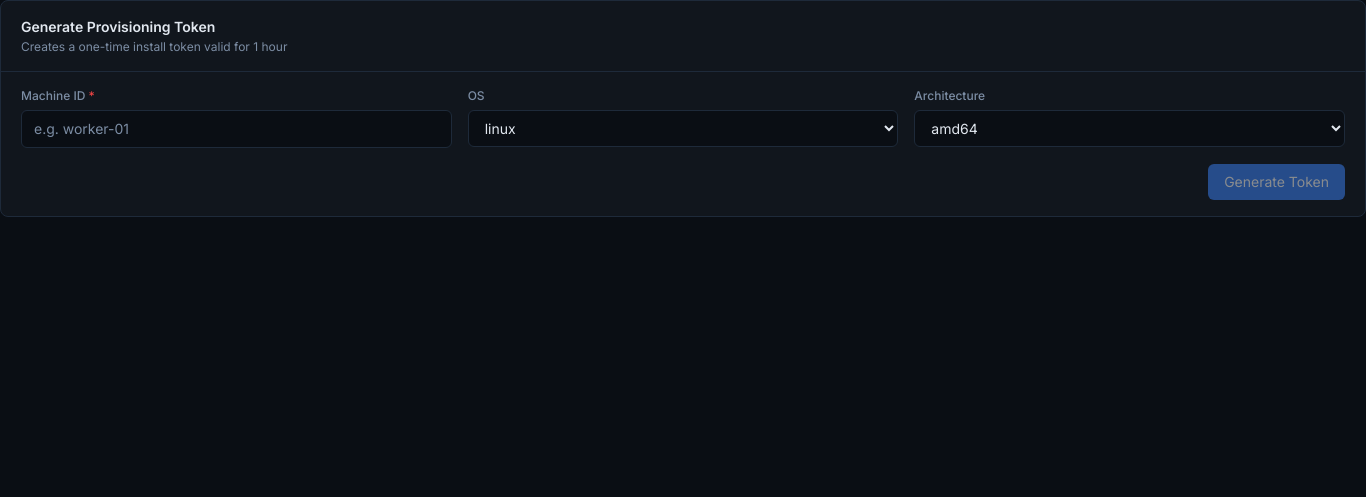
Test case: TokenGenerator › displays result with short code after successful generation
Type "worker-x" into the field with placeholder "e.g. worker-01" at [236, 129], box [21,110,452,148]
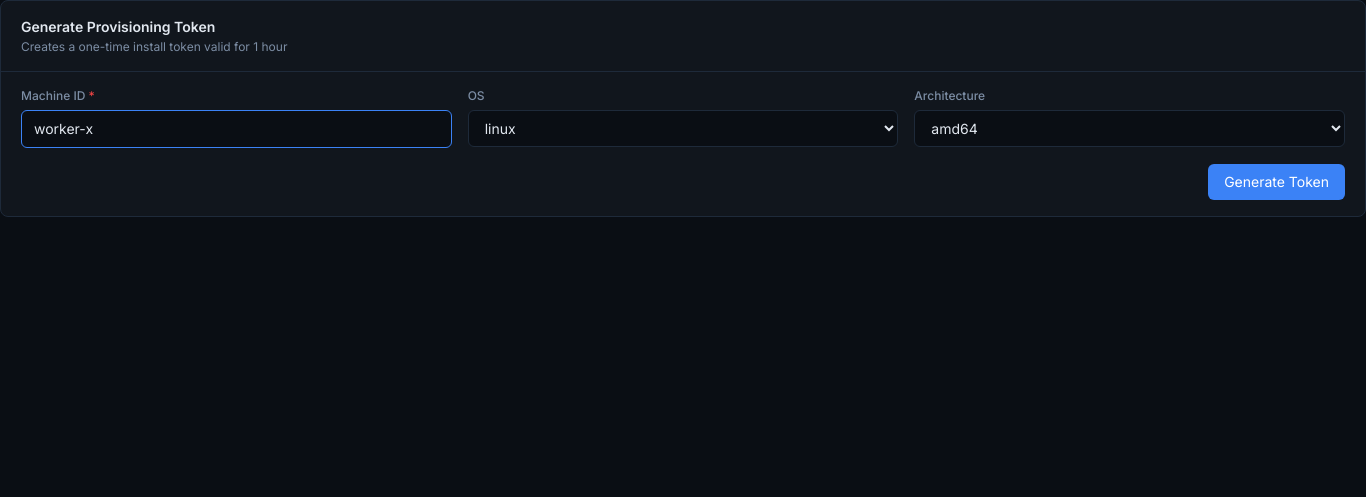
Click the button "Generate Token" at [1277, 182], box [1208,164,1345,200]
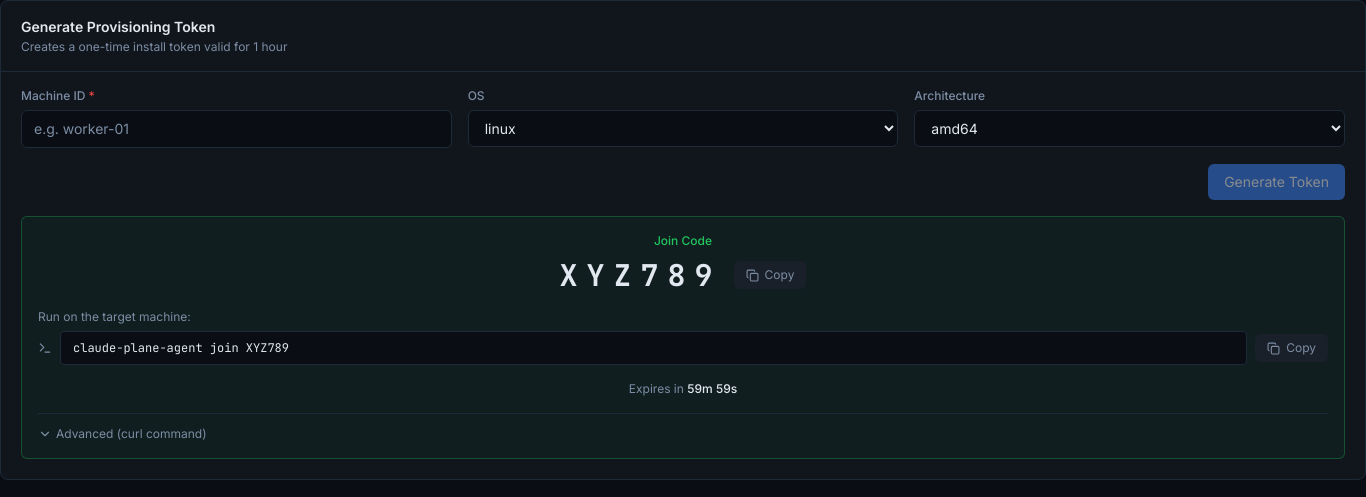
Now the text "XYZ789" is shown, box [560,257,722,293]
Now the text "Join Code" is shown, box [654,233,712,248]
